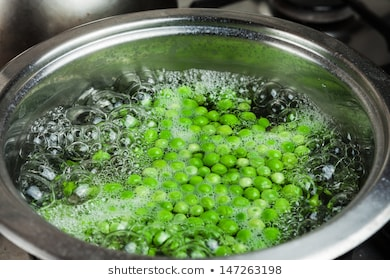boiled peas: (117, 106, 286, 220)
